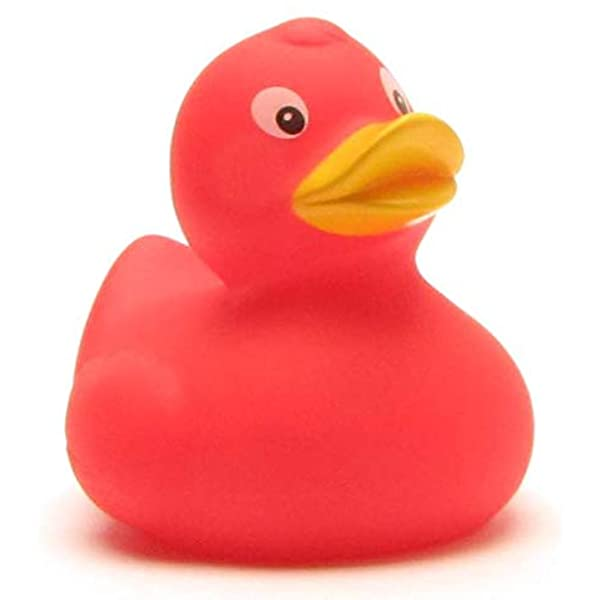Duck: (60, 13, 540, 568)
